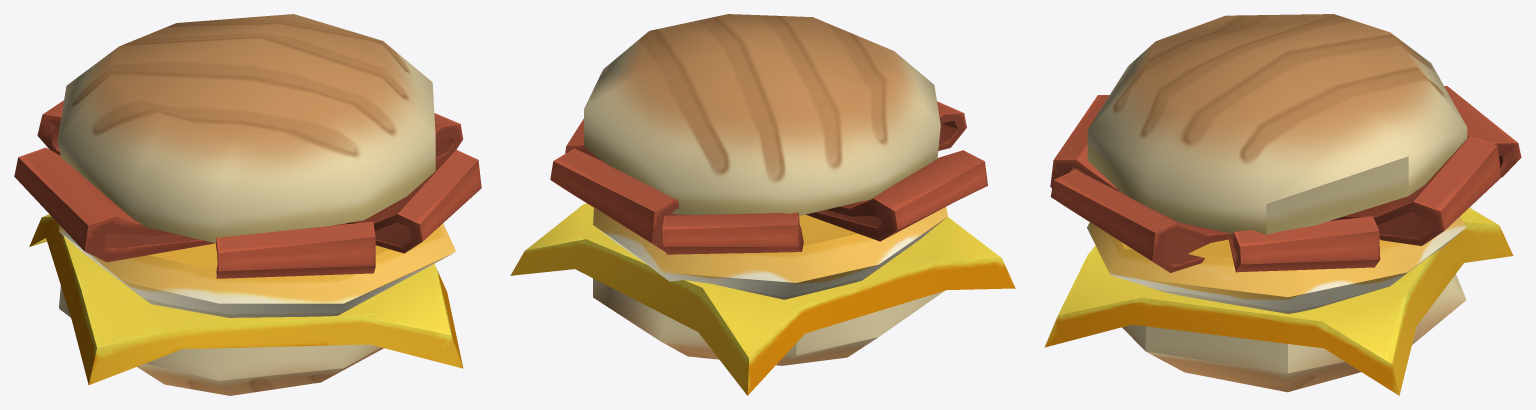
The model's file is ham egg muffin.FBX.
3 views of the same model, side by side, from view 1: azimuth 30°, elevation 25°; view 2: azimuth 150°, elevation 25°; view 3: azimuth 270°, elevation 25° (orthographic). The views are drawn at different scales.
Visible parts, largest first — view 1: ham egg muffin; view 2: ham egg muffin; view 3: ham egg muffin.
Part boxes in pixels (<box>): ham egg muffin: <box>14,14,481,395</box>; ham egg muffin: <box>510,14,1015,395</box>; ham egg muffin: <box>1044,14,1521,395</box>.
Size of the model in its own units: 4.96 by 3.36 by 4.89.
